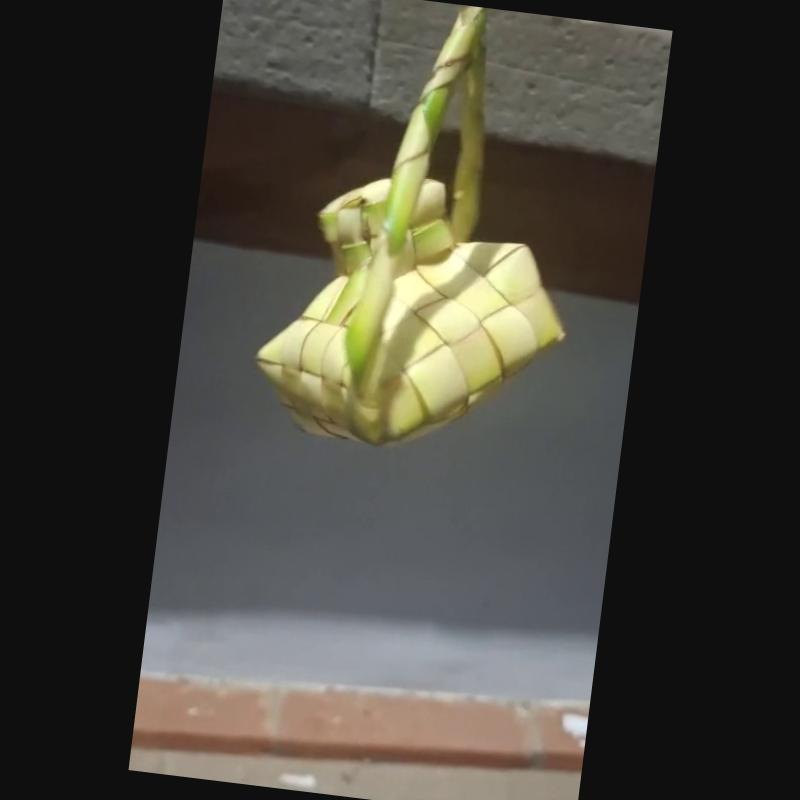Tipat Gong: (249, 5, 571, 455)
